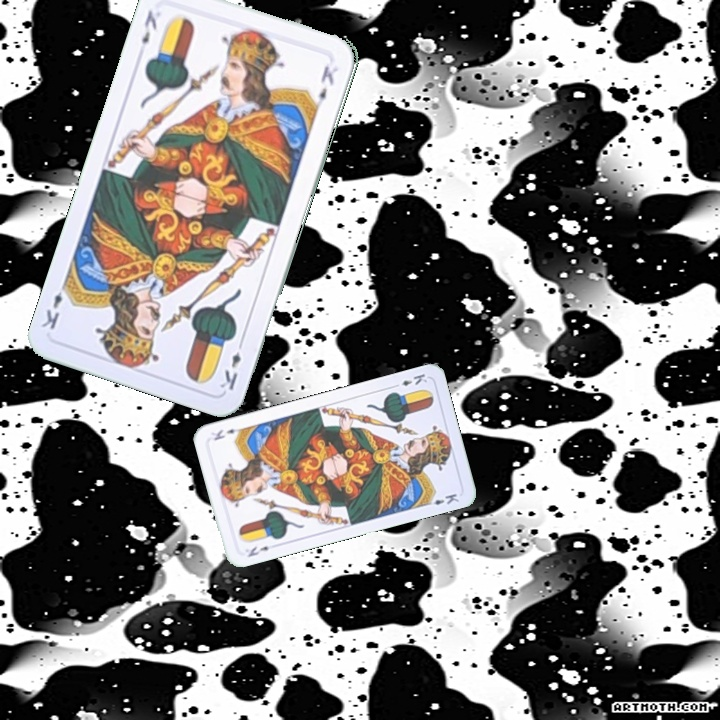EK: (216, 335, 247, 393), (137, 6, 160, 47), (389, 369, 430, 390), (244, 542, 272, 560)
